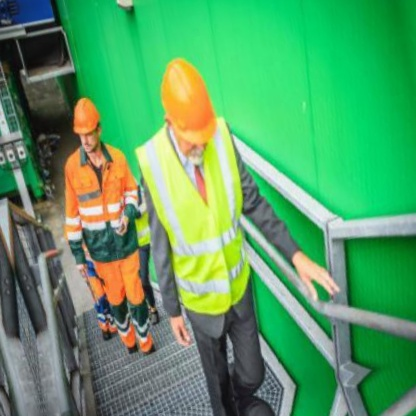vest: (135, 134, 274, 324), (56, 141, 153, 271)
